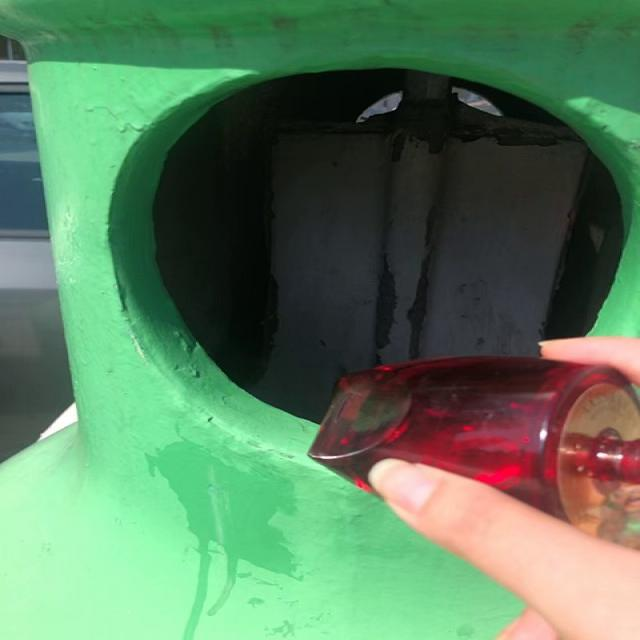glass: (309, 357, 640, 548)
